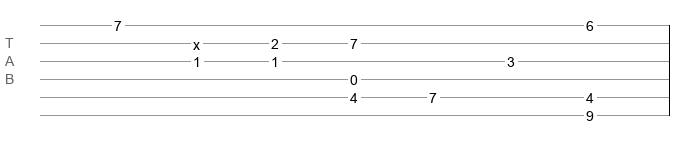0: (350, 72, 358, 82)
1: (193, 54, 201, 64), (271, 54, 279, 64)
2: (271, 36, 279, 46)
3: (507, 54, 515, 64)
4: (350, 90, 358, 100), (586, 90, 594, 100)
6: (586, 18, 594, 28)
7: (114, 18, 122, 28), (350, 36, 358, 46), (429, 90, 437, 100)
9: (586, 108, 594, 118)
x: (193, 37, 200, 45)
